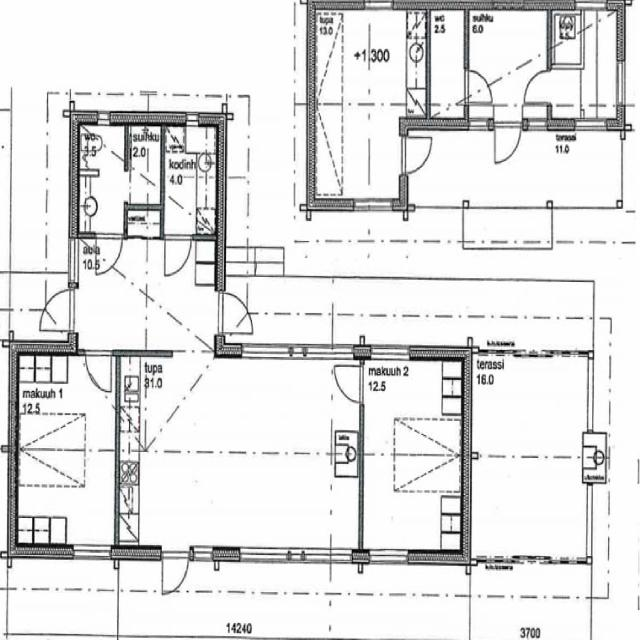door: (39, 289, 80, 333), (217, 292, 256, 334), (493, 119, 522, 169), (162, 547, 188, 599), (400, 136, 432, 172), (85, 351, 110, 393), (166, 235, 190, 275), (97, 234, 121, 274), (334, 368, 362, 402), (525, 70, 552, 104), (464, 70, 492, 102)
